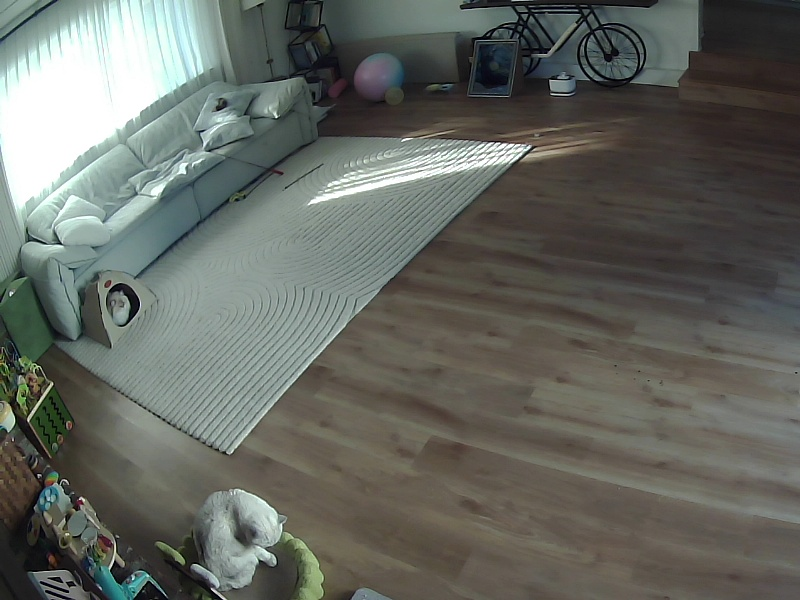Qb-2: (193, 489, 285, 590)
Qbo-2: (106, 290, 129, 325)
